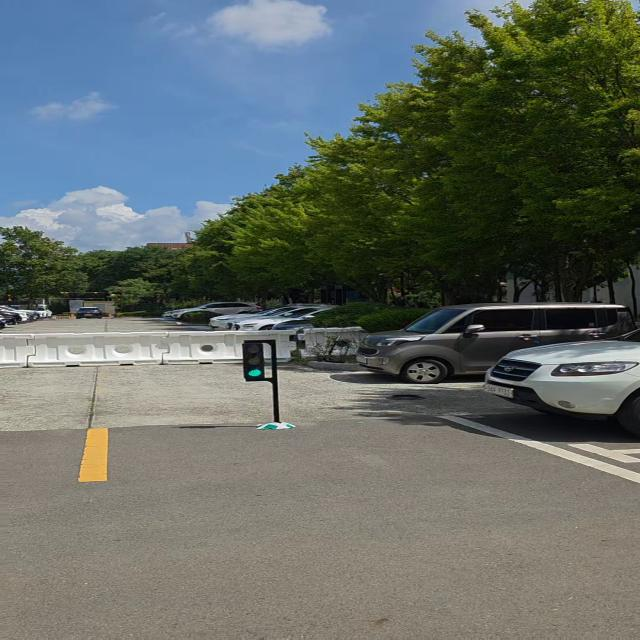green: (240, 340, 270, 382)
